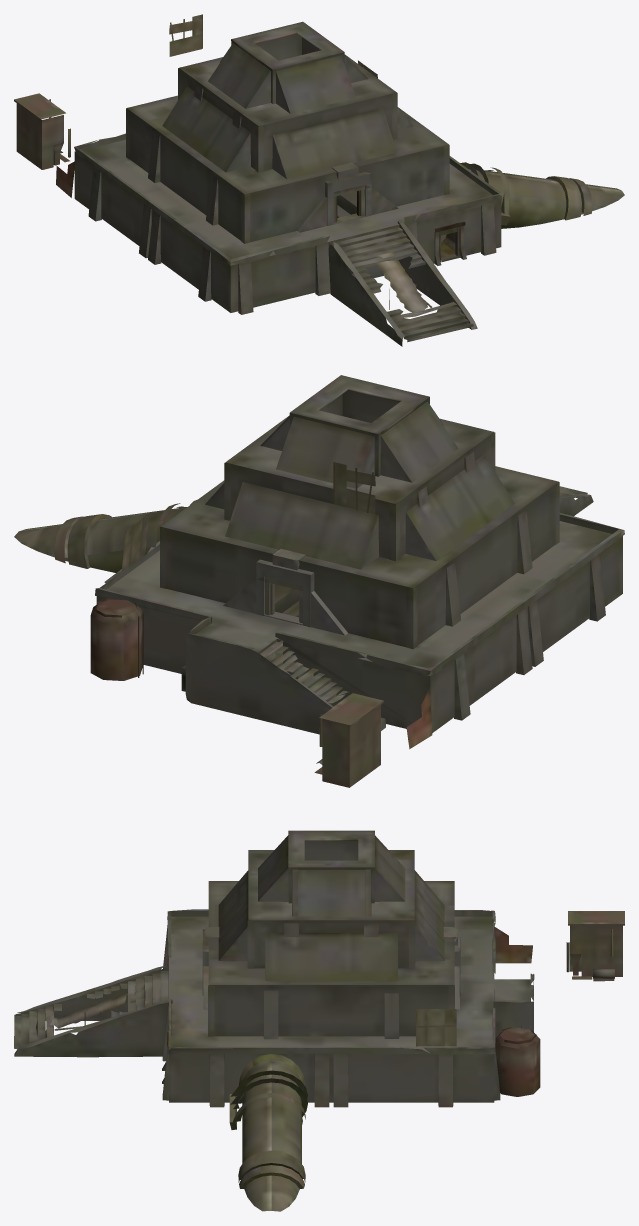
Rendered from jungle_ziggurat_a.glb.
The picture shows the model from 3 angles, top to bottom: view 1: azimuth 30°, elevation 25°; view 2: azimuth 150°, elevation 25°; view 3: azimuth 270°, elevation 25°; orthographic projection. The views are drawn at different scales.
Visible parts, largest first — view 1: jungle_ziggurat_a_HLOD; view 2: jungle_ziggurat_a_HLOD; view 3: jungle_ziggurat_a_HLOD.
Boxes of the visible parts, x1=… form: jungle_ziggurat_a_HLOD: x1=14, y1=14, x2=624, y2=346; jungle_ziggurat_a_HLOD: x1=14, y1=375, x2=624, y2=787; jungle_ziggurat_a_HLOD: x1=14, y1=830, x2=624, y2=1211.
Bounding box in the file's own units: 40.43 × 18.28 × 46.
1 material, 1 textured.
